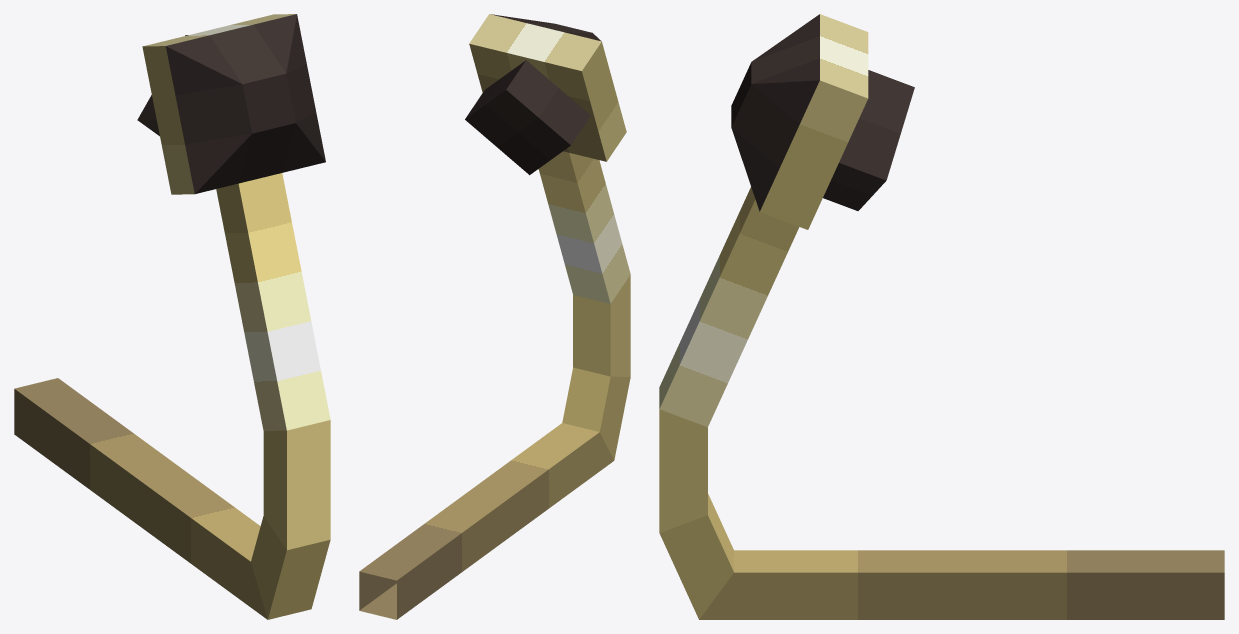
The model's file is variegator_limb_long.obj.
3 renders of one model, left to right at view 1: azimuth 30°, elevation 25°; view 2: azimuth 150°, elevation 25°; view 3: azimuth 270°, elevation 25°, orthographic. The views are drawn at different scales.
Parts seen in each view (by area): view 1: VARIAGATOR_LIMB_LONG_Cube.070; view 2: VARIAGATOR_LIMB_LONG_Cube.070; view 3: VARIAGATOR_LIMB_LONG_Cube.070.
Part boxes in pixels (x1=…): VARIAGATOR_LIMB_LONG_Cube.070: x1=14, y1=14, x2=330, y2=619; VARIAGATOR_LIMB_LONG_Cube.070: x1=359, y1=14, x2=630, y2=619; VARIAGATOR_LIMB_LONG_Cube.070: x1=659, y1=14, x2=1224, y2=619.
Size of the model in its own units: 0.1875 by 0.7394 by 0.674.
